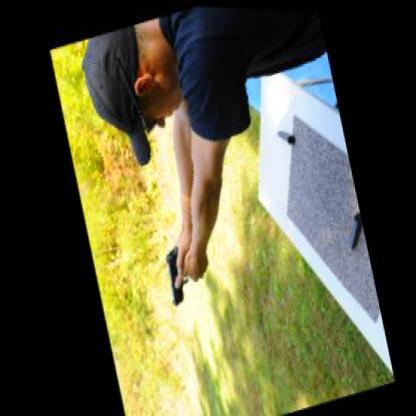pistol: (156, 236, 190, 302)
